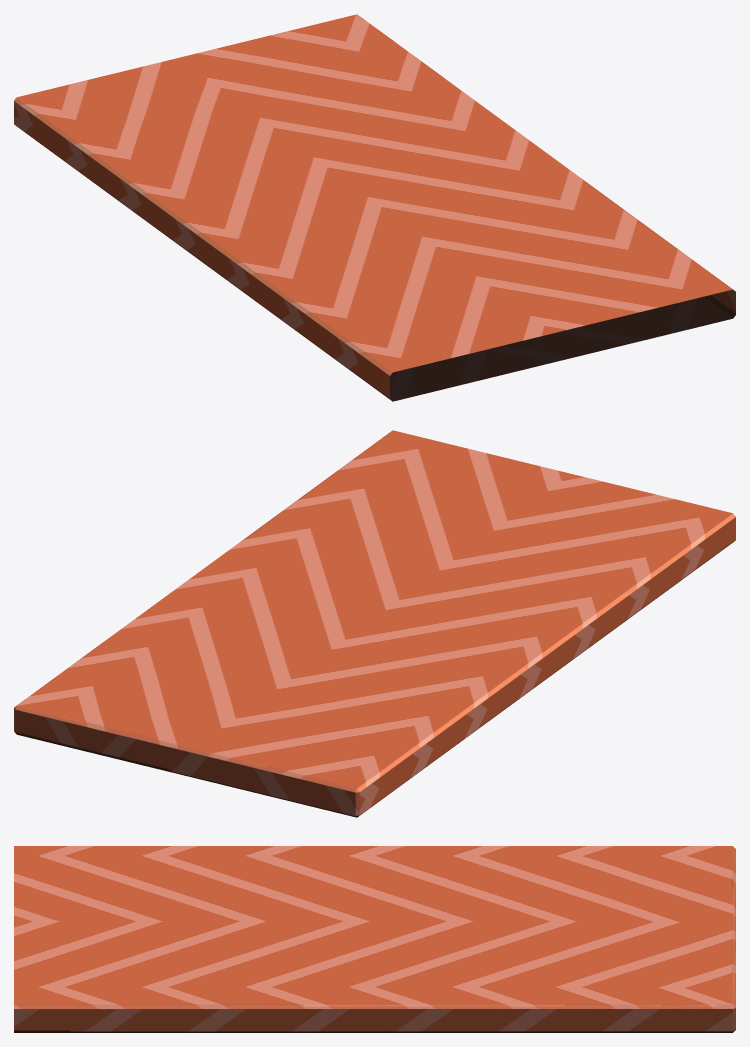
The model's file is ship_dive.fbx.
3 renders of one model, top to bottom at view 1: azimuth 30°, elevation 25°; view 2: azimuth 150°, elevation 25°; view 3: azimuth 270°, elevation 25°, orthographic. The views are drawn at different scales.
Visible parts, largest first — view 1: ship_dive; view 2: ship_dive; view 3: ship_dive.
Part boxes in pixels (<box>): ship_dive: <box>14,14,735,401</box>; ship_dive: <box>14,430,735,817</box>; ship_dive: <box>14,846,735,1032</box>.
Bounding box in the file's own units: 7.62 × 0.6138 × 14.4.
